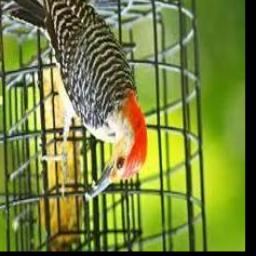Woodpecker: (6, 0, 148, 202)
